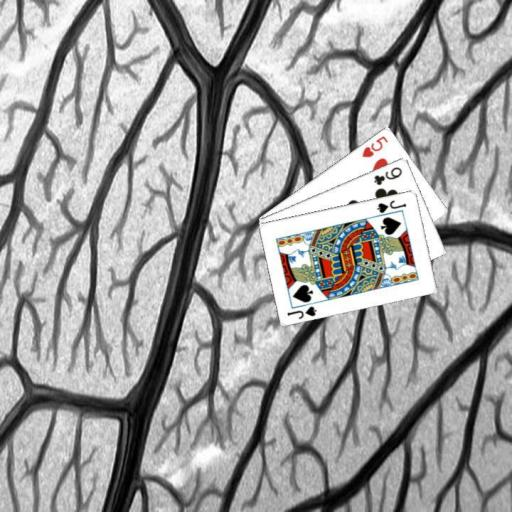5H: (359, 132, 390, 159)
9C: (371, 164, 403, 187)
JS: (374, 196, 408, 214), (284, 303, 318, 320)
